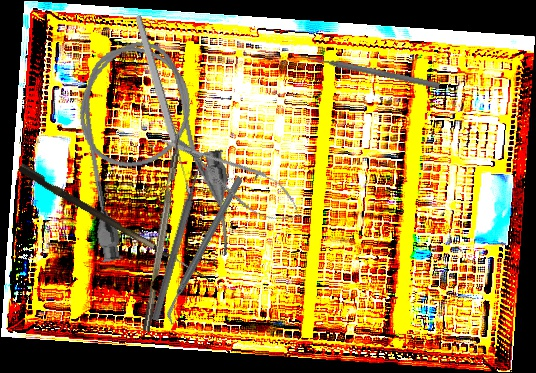Cannula: (61, 30, 243, 279)
Chopper: (124, 175, 286, 326), (132, 121, 187, 332)
Hook Surgical: (15, 163, 217, 282)
Micro Scissor: (150, 116, 313, 236)
Pusher: (150, 153, 208, 322), (297, 51, 441, 90)
Surgical Spoon: (132, 13, 195, 197)
